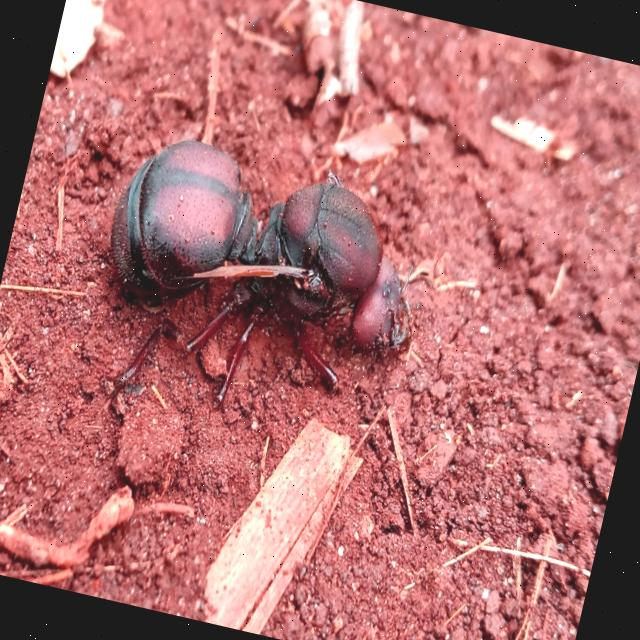Alive-Female-Dealate: (72, 124, 440, 466)
